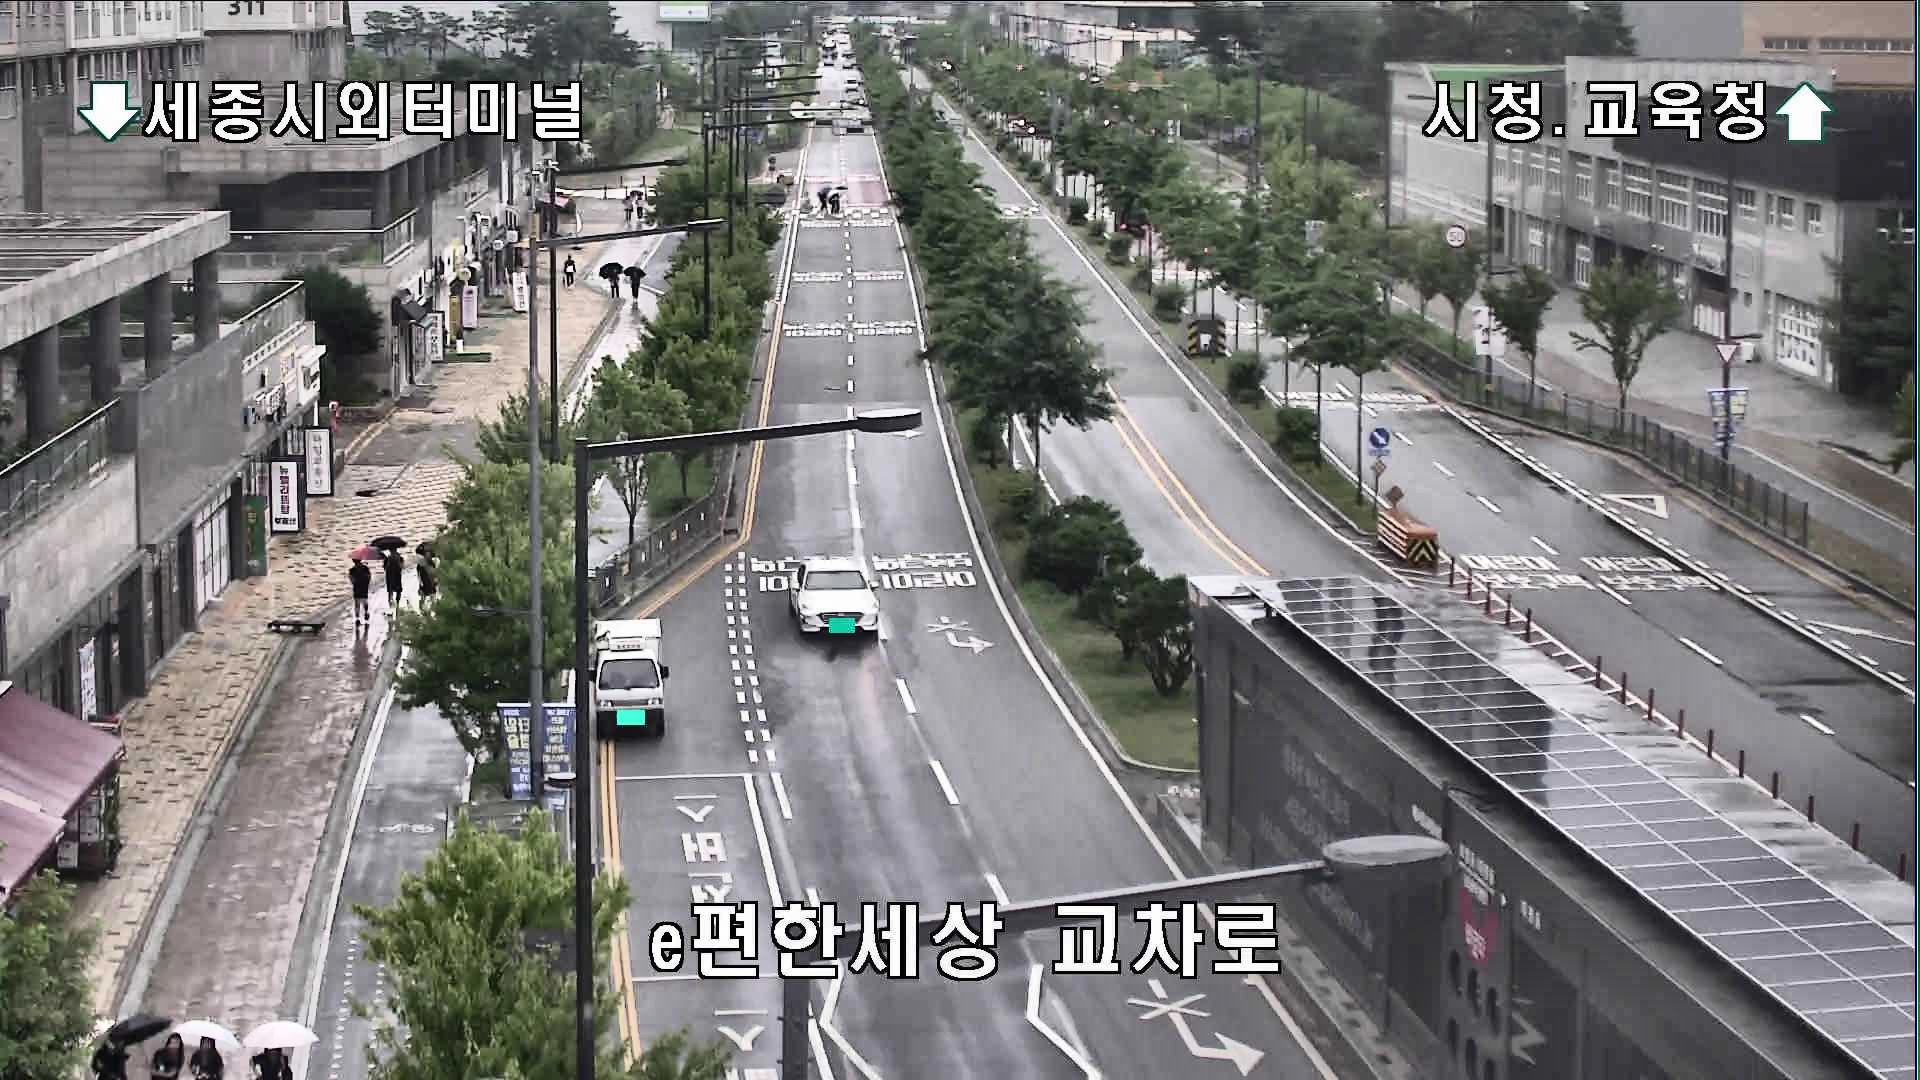sidewalk: (560, 253, 578, 291)
um_crosswalk: (825, 187, 851, 215), (816, 181, 835, 218)
um_sidewalk: (245, 1023, 320, 1080), (181, 1021, 236, 1080), (371, 534, 407, 611), (345, 545, 378, 622), (146, 1011, 181, 1080), (411, 537, 439, 611), (600, 260, 624, 302), (626, 262, 647, 305), (620, 193, 638, 225), (633, 189, 647, 222)
